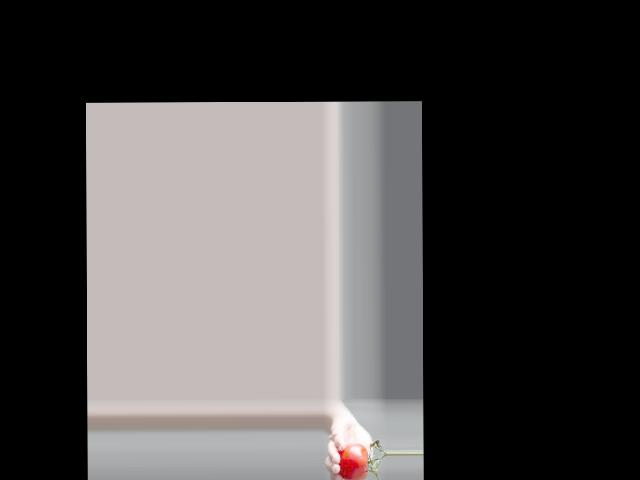tomato: (338, 442, 369, 480)
